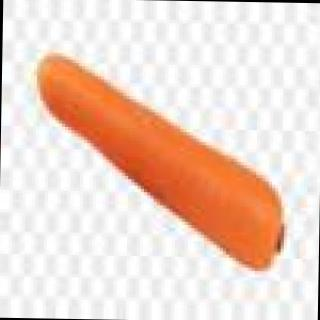Wortel: (5, 43, 288, 294)
